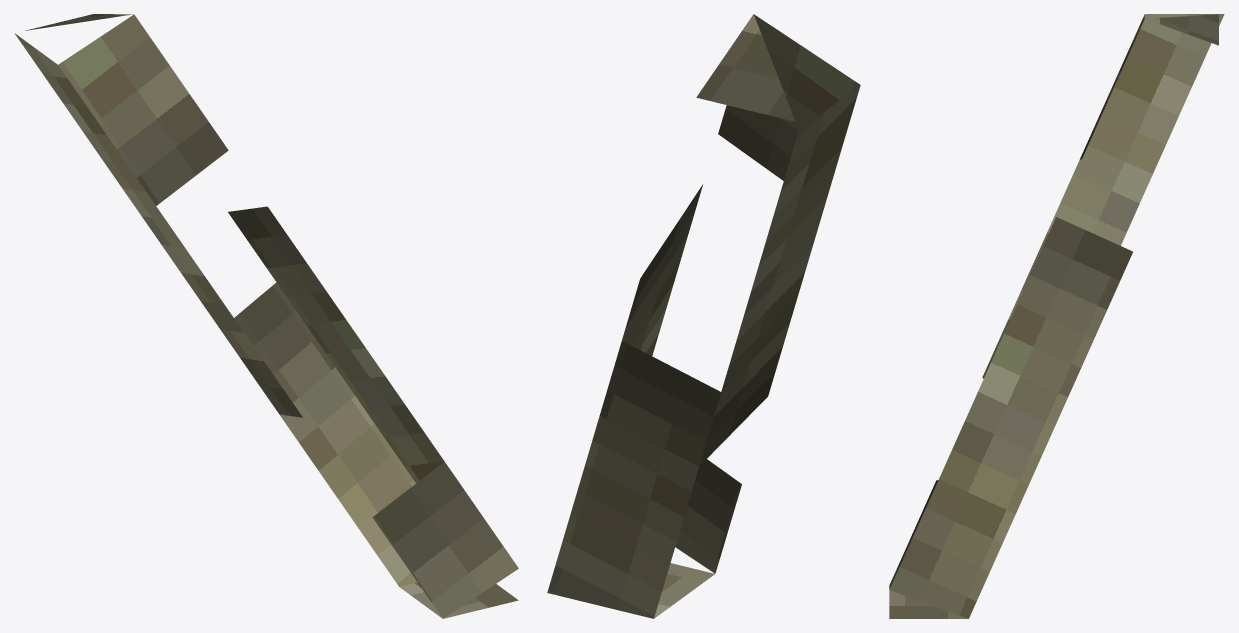
Rendered from beech_thin_branch_22.5_diagonal.obj.
The picture shows the model from 3 angles, left to right: view 1: azimuth 30°, elevation 25°; view 2: azimuth 150°, elevation 25°; view 3: azimuth 270°, elevation 25°; orthographic projection. The views are drawn at different scales.
Visible parts, largest first — view 1: cube_selection; view 2: cube_selection; view 3: cube_selection.
Boxes of the visible parts, box(x1,y1,x2,y2) form: cube_selection: box(14, 14, 518, 618); cube_selection: box(547, 14, 860, 618); cube_selection: box(889, 14, 1224, 618).
Bounding box in the file's own units: 1.31 × 2.12 × 1.31.
